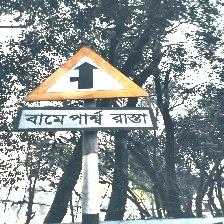Side-road-left: (17, 46, 157, 132)
